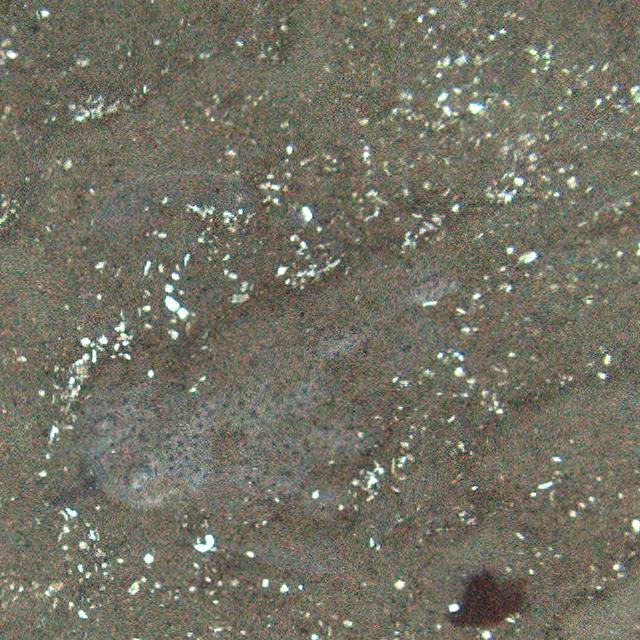skate: (82, 174, 496, 512)
